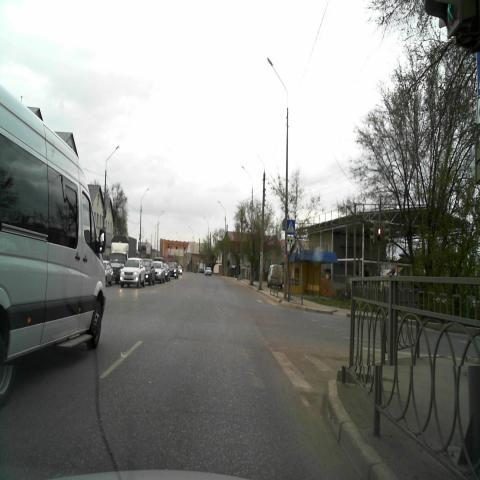5_19_1: (286, 219, 296, 235)
8_15: (287, 236, 295, 244)
